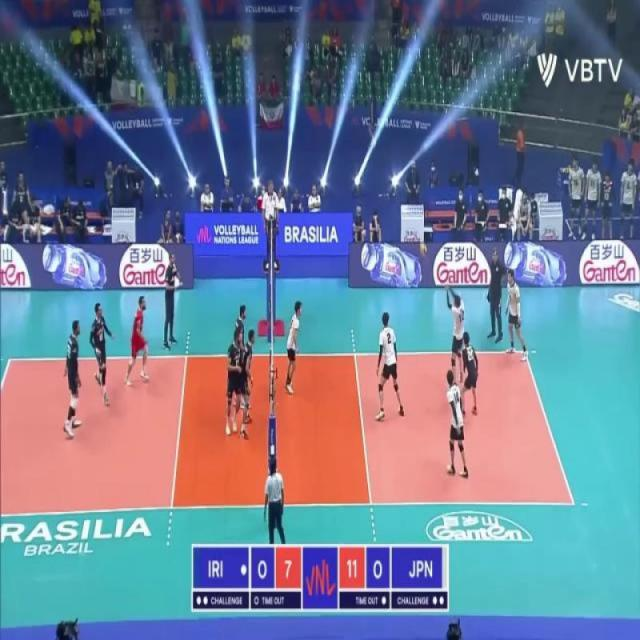volleyball: (419, 242, 428, 258)
